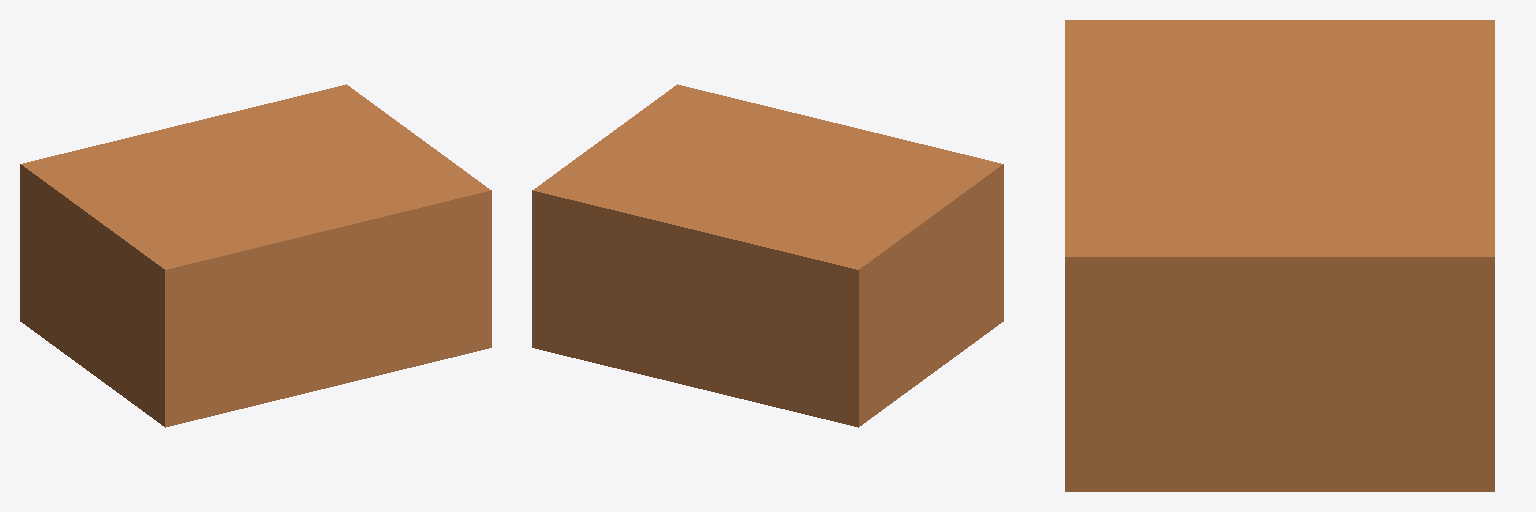
robot.urdf — box:
<?xml version="1.0"?>
<robot name="box">
  <link name="box">
    <visual>
      <material name="wood">
        <color rgba="0.82 0.56 0.35 1.0"/>
      </material>
      <origin xyz="0 0 0"/>
      <geometry>
        <box size="0.65 0.5 0.3"/>
      </geometry>
    </visual>
    <collision>
      <origin xyz="0 0 0"/>
      <geometry>
        <box size="0.65 0.5 0.3"/>
      </geometry>
    </collision>
    <inertial>
      <mass value="500"/>
      <friction value="1.0"/>
      <inertia ixx="1000.0" ixy="0.0" ixz="0.0" iyy="1000.0" iyz="0.0" izz="1000.0"/>
    </inertial>
  </link>
</robot>

--- Facts derived from the render (not from the file) ---
The picture shows the robot from 3 angles, left to right: view 1: azimuth 30°, elevation 25°; view 2: azimuth 150°, elevation 25°; view 3: azimuth 270°, elevation 25°; orthographic projection.
Model box with 1 links and 0 joints (none), rooted at box, posed every joint at zero.
Links seen in each view (by area): view 1: box; view 2: box; view 3: box.
Link boxes in pixels (left/top/right/bottom): box: left=20, top=84, right=491, bottom=427; box: left=532, top=84, right=1003, bottom=427; box: left=1065, top=20, right=1494, bottom=491.
Bounding box of the posed robot: 0.65 × 0.5 × 0.3 m (x, y, z).
Geometry: primitives only (box / cylinder / sphere), no mesh files.
